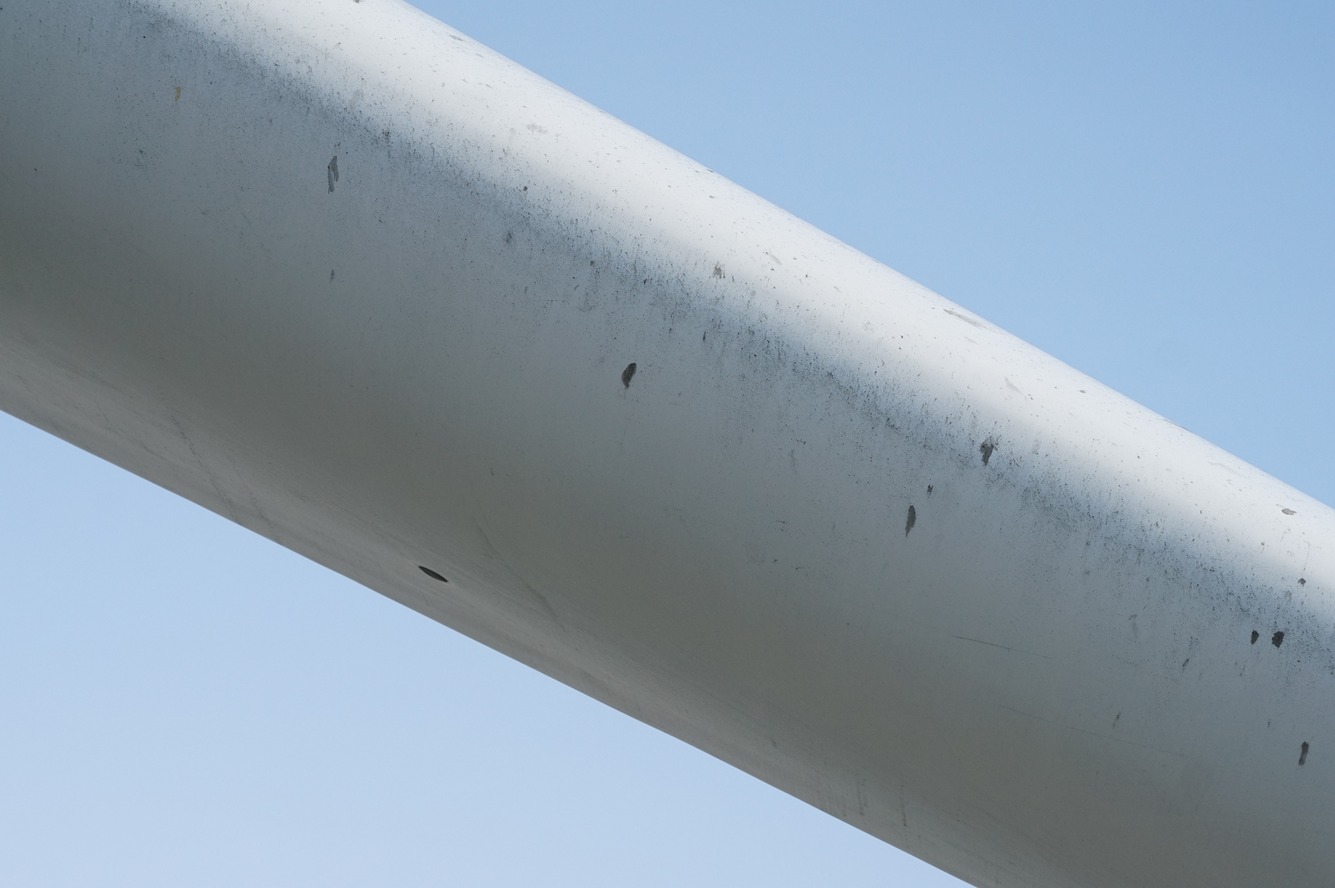Damage: (416, 564, 452, 584)
